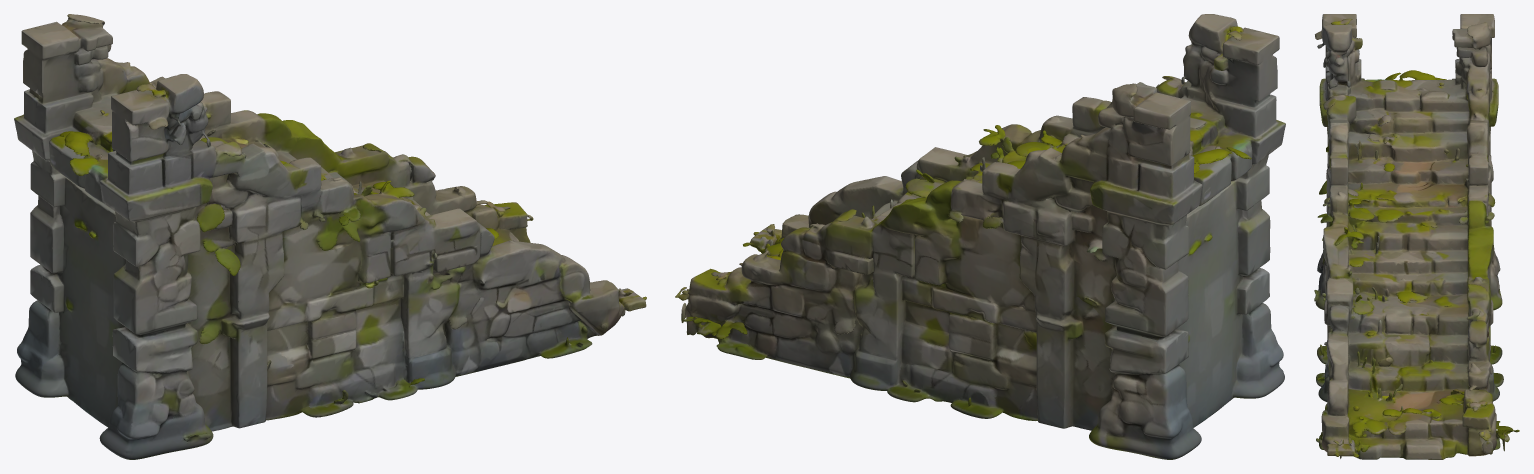
File: ruin_stairway.glb
3 renders of one model, left to right at view 1: azimuth 30°, elevation 25°; view 2: azimuth 150°, elevation 25°; view 3: azimuth 270°, elevation 25°, orthographic. The views are drawn at different scales.
Parts seen in each view (by area): view 1: tripo_node_34e3018b-aaa3-4a94-840e-e3984c3655d0; view 2: tripo_node_34e3018b-aaa3-4a94-840e-e3984c3655d0; view 3: tripo_node_34e3018b-aaa3-4a94-840e-e3984c3655d0.
Boxes of the visible parts, x1,y1,x2,y2 form: tripo_node_34e3018b-aaa3-4a94-840e-e3984c3655d0: [14, 14, 646, 459]; tripo_node_34e3018b-aaa3-4a94-840e-e3984c3655d0: [675, 14, 1285, 459]; tripo_node_34e3018b-aaa3-4a94-840e-e3984c3655d0: [1314, 14, 1519, 459].
Size of the model in its own units: 1 by 0.6482 by 0.4307.
1 material, 1 textured.
